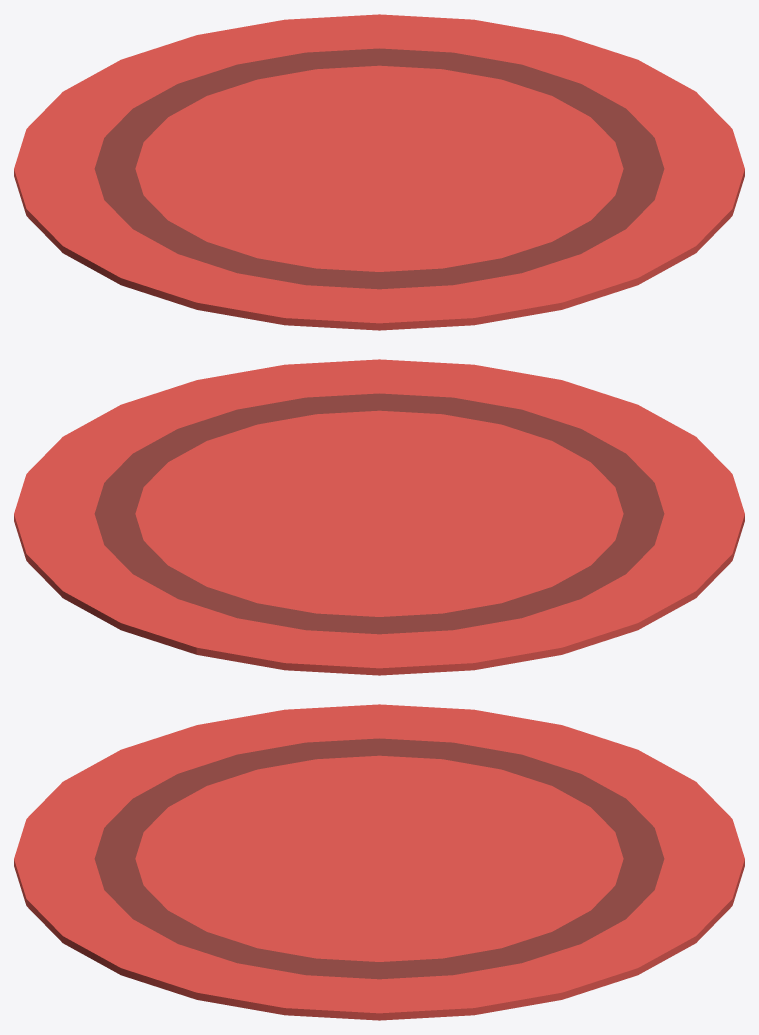
The model's file is rugRound.glb.
3 views of the same model, one above another, from view 1: azimuth 30°, elevation 25°; view 2: azimuth 150°, elevation 25°; view 3: azimuth 270°, elevation 25° (orthographic).
Parts seen in each view (by area): view 1: rugRound; view 2: rugRound; view 3: rugRound.
Boxes of the visible parts, x1,y1,x2,y2 form: rugRound: (14, 14, 744, 330); rugRound: (14, 359, 744, 675); rugRound: (14, 704, 744, 1020).
Size of the model in its own units: 1.93 by 0.021 by 1.93.
